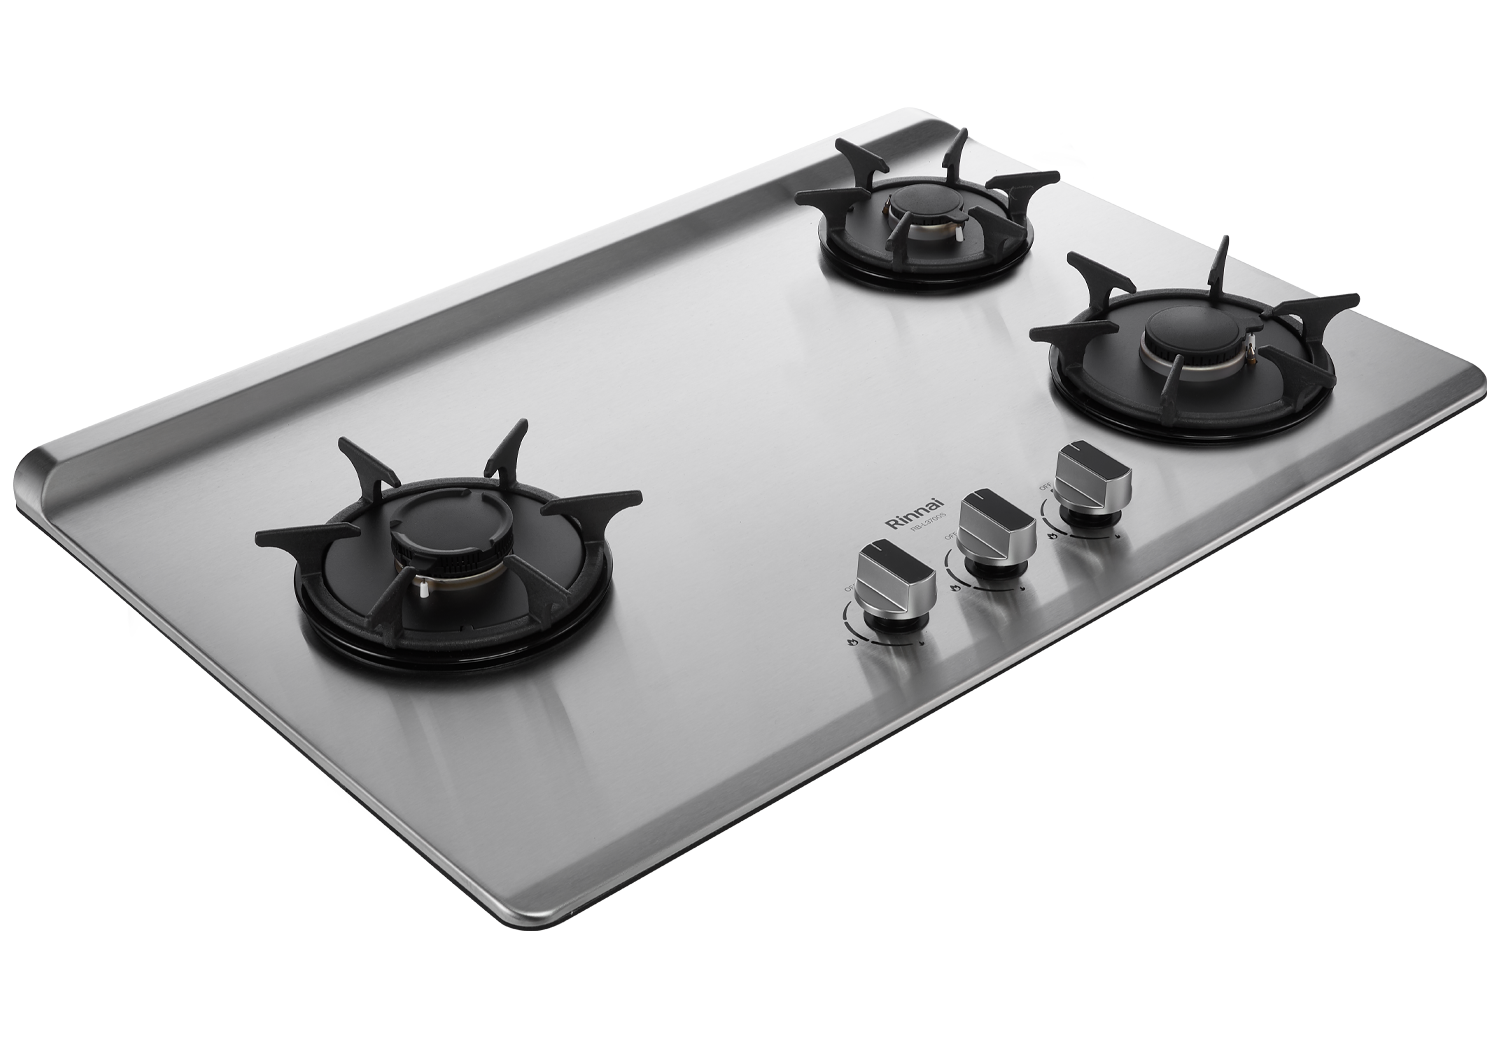gasoven: (5, 112, 1500, 933)
